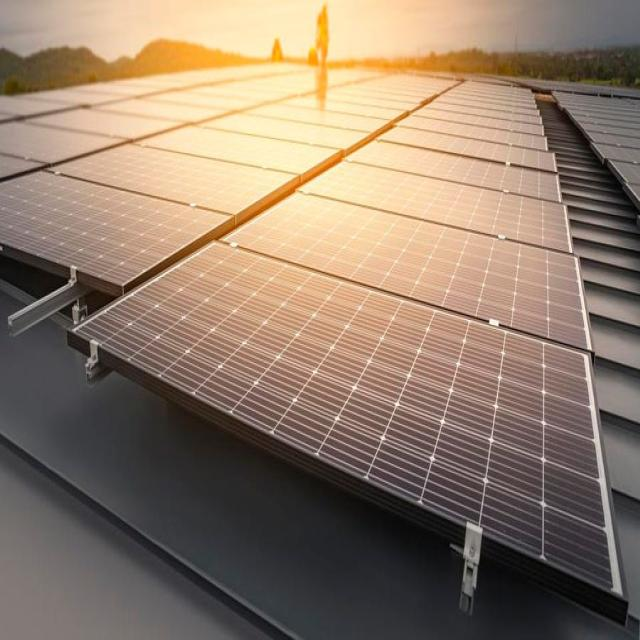clean-solar-panel: (0, 64, 626, 619)
